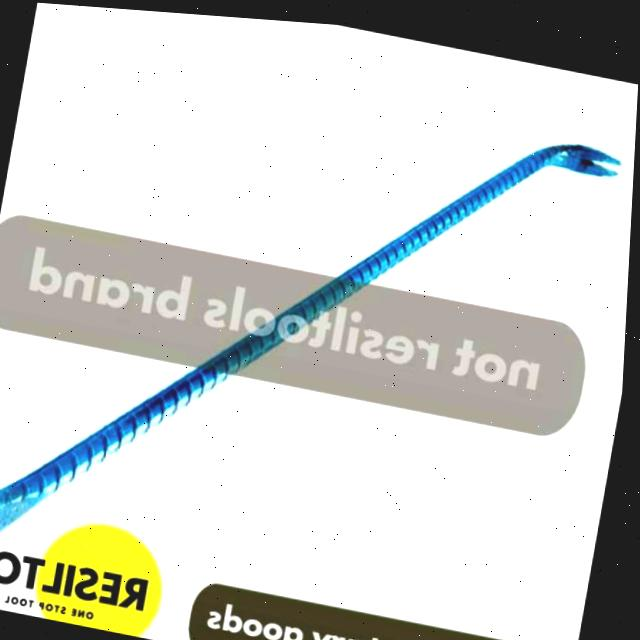crow bar: (0, 106, 628, 545)
